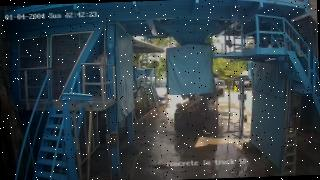cement_mixer_truck: (174, 74, 223, 131)
